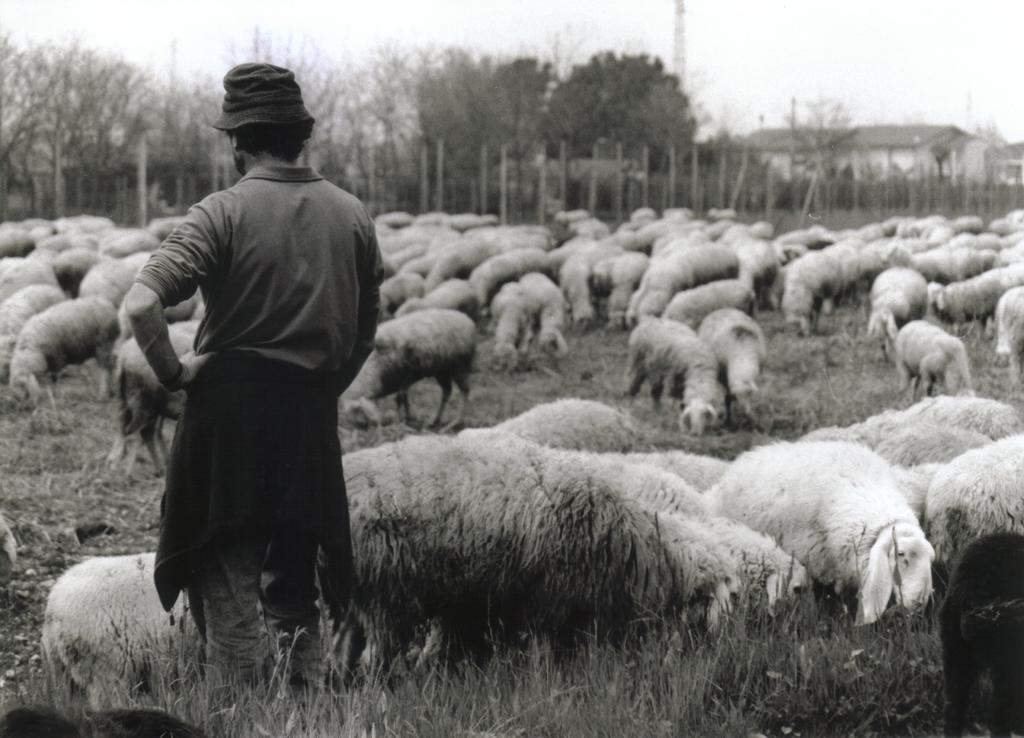Tree: (0, 27, 700, 218)
